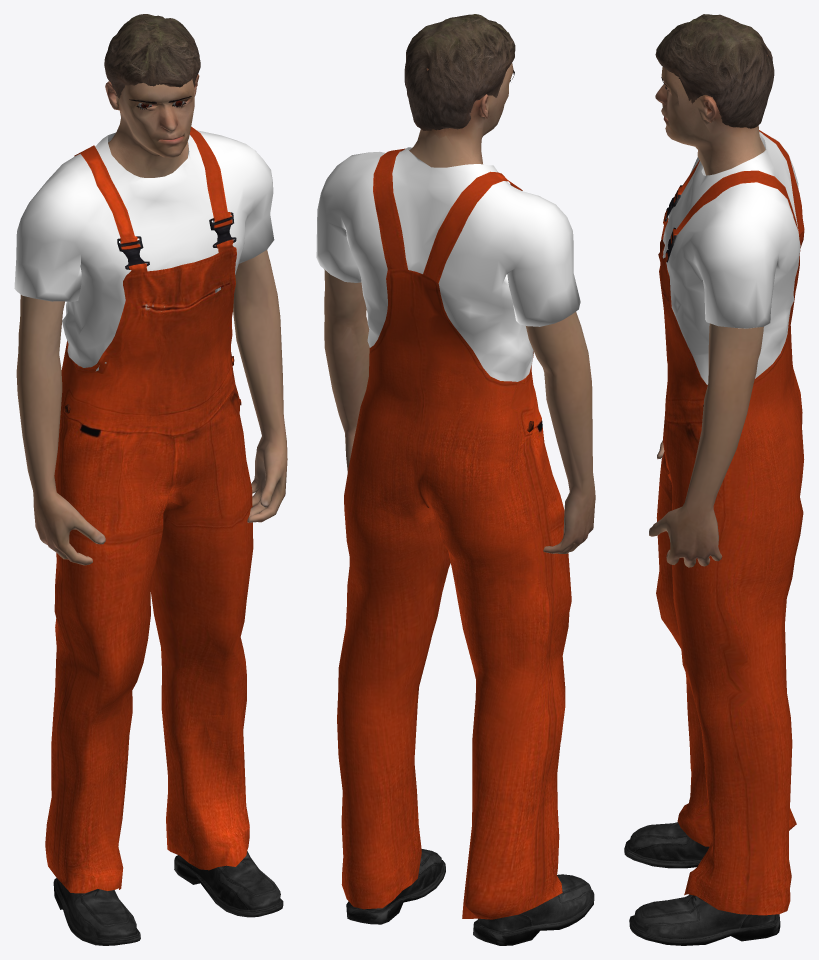
The model's file is marshal.glb.
The picture shows the model from 3 angles, left to right: view 1: azimuth 30°, elevation 25°; view 2: azimuth 150°, elevation 25°; view 3: azimuth 270°, elevation 25°; orthographic projection. The views are drawn at different scales.
Parts seen in each view (by area): view 1: marshal_lod0; view 2: marshal_lod0; view 3: marshal_lod0.
Part boxes in pixels (x1,y1,x2,y2): marshal_lod0: (14,14,287,945); marshal_lod0: (316,14,595,945); marshal_lod0: (624,14,804,945).
Size of what is drawn, in the model's own units: 0.5394 by 1.77 by 0.3293.
Materials: 7 (7 with a texture image).
